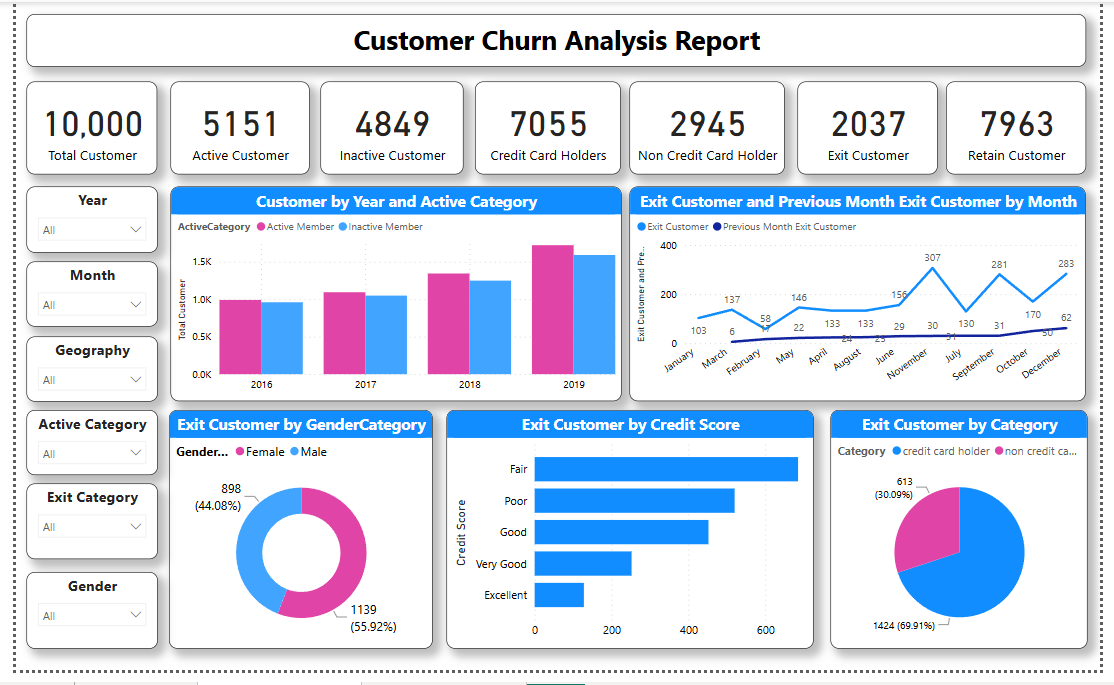

Layout of this report page (visuals, bound fields, positions):
{"tool":"powerbi","page":{"name":"Dashboard_1","canvas":[1300,800],"ordinal":1},"visuals":[{"type":"textbox","box":[12.7,14.3,1269.8,63.5],"z":0},{"type":"card","fields":{"Values":["Bank_Churn.Total Customer"]},"box":[12.9,94.6,156.9,111.6],"z":1000},{"type":"card","fields":{"Values":["Bank_Churn.Active Customer"]},"box":[184.4,94.6,166.7,111.6],"z":2000},{"type":"card","fields":{"Values":["Bank_Churn.InActive Customer"]},"box":[365.6,94.6,171.5,111.6],"z":3000},{"type":"card","fields":{"Values":["Bank_Churn.Credit Card Holder"]},"box":[550.1,94.6,174.7,111.6],"z":4000},{"type":"card","fields":{"Values":["Bank_Churn.Non Credit Card Holder"]},"box":[736.1,94.6,186.1,111.6],"z":5000},{"type":"card","fields":{"Values":["Bank_Churn.Exit Customer"]},"box":[936.7,94.6,168.3,111.6],"z":6000},{"type":"card","fields":{"Values":["Bank_Churn.Retain Customer"]},"box":[1114.7,94.6,168.3,111.6],"z":7000},{"type":"clusteredColumnChart","title":"Customer by Year and Active Category","fields":{"Category":["Date Master.Year","Date Master.Month"],"Y":["Bank_Churn.Total Customer"],"Series":["ActiveCustomer.ActiveCategory"]},"box":[184.4,220.8,540.4,257.3],"z":8000},{"type":"lineChart","fields":{"Category":["Date Master.Month"],"Y":["Bank_Churn.Exit Customer","Bank_Churn.Previous Month Exit Customer"]},"box":[736.1,220.8,546.9,257.3],"z":9000},{"type":"donutChart","fields":{"Category":["Gender.GenderCategory"],"Y":["Bank_Churn.Exit Customer"]},"box":[184.1,489.4,315.9,285.7],"z":10000},{"type":"barChart","fields":{"Category":["Bank_Churn.Credit_Score"],"Y":["Bank_Churn.Exit Customer"]},"box":[515.9,489.4,439.7,285.7],"z":11000},{"type":"pieChart","fields":{"Category":["CreditCard.Category"],"Y":["Bank_Churn.Exit Customer"]},"box":[976.2,489.4,307.9,285.7],"z":12000},{"type":"slicer","title":"Year","fields":{"Values":["Date Master.Year"]},"box":[12.7,221.2,157.1,79.4],"z":13000},{"type":"slicer","title":"Month","fields":{"Values":["Date Master.Month"]},"box":[12.7,311.6,157.1,77.8],"z":14000},{"type":"slicer","title":"Geography","fields":{"Values":["Geography.GeographyLocation"]},"box":[12.7,400.5,157.1,77.8],"z":15000},{"type":"slicer","title":"Active Category","fields":{"Values":["ActiveCustomer.ActiveCategory"]},"box":[12.7,489.4,157.1,77.8],"z":16000},{"type":"slicer","title":"Exit Category","fields":{"Values":["Exit Customer.ExitCategory"]},"box":[12.7,577.8,157.1,90.5],"z":17000},{"type":"slicer","title":"Gender","fields":{"Values":["Gender.GenderCategory"]},"box":[12.7,682.5,157.1,92.1],"z":18000}]}

Visuals, with their boxes in screenshot pixels (x1, y1, x2, y2), scaled from the page's 1300x800 canvas onto the 1114x685 screenshot:
textbox: crop(11, 12, 1099, 67)
card - Bank_Churn.Total Customer: crop(11, 81, 146, 177)
card - Bank_Churn.Active Customer: crop(158, 81, 301, 177)
card - Bank_Churn.InActive Customer: crop(313, 81, 460, 177)
card - Bank_Churn.Credit Card Holder: crop(471, 81, 621, 177)
card - Bank_Churn.Non Credit Card Holder: crop(631, 81, 790, 177)
card - Bank_Churn.Exit Customer: crop(803, 81, 947, 177)
card - Bank_Churn.Retain Customer: crop(955, 81, 1099, 177)
"Customer by Year and Active Category" clusteredColumnChart: crop(158, 189, 621, 409)
lineChart - Date Master.Month x Bank_Churn.Exit Customer: crop(631, 189, 1099, 409)
donutChart - Gender.GenderCategory x Bank_Churn.Exit Customer: crop(158, 419, 428, 664)
barChart - Bank_Churn.Credit_Score x Bank_Churn.Exit Customer: crop(442, 419, 819, 664)
pieChart - CreditCard.Category x Bank_Churn.Exit Customer: crop(837, 419, 1100, 664)
"Year" slicer: crop(11, 189, 146, 257)
"Month" slicer: crop(11, 267, 146, 333)
"Geography" slicer: crop(11, 343, 146, 410)
"Active Category" slicer: crop(11, 419, 146, 486)
"Exit Category" slicer: crop(11, 495, 146, 572)
"Gender" slicer: crop(11, 584, 146, 663)
